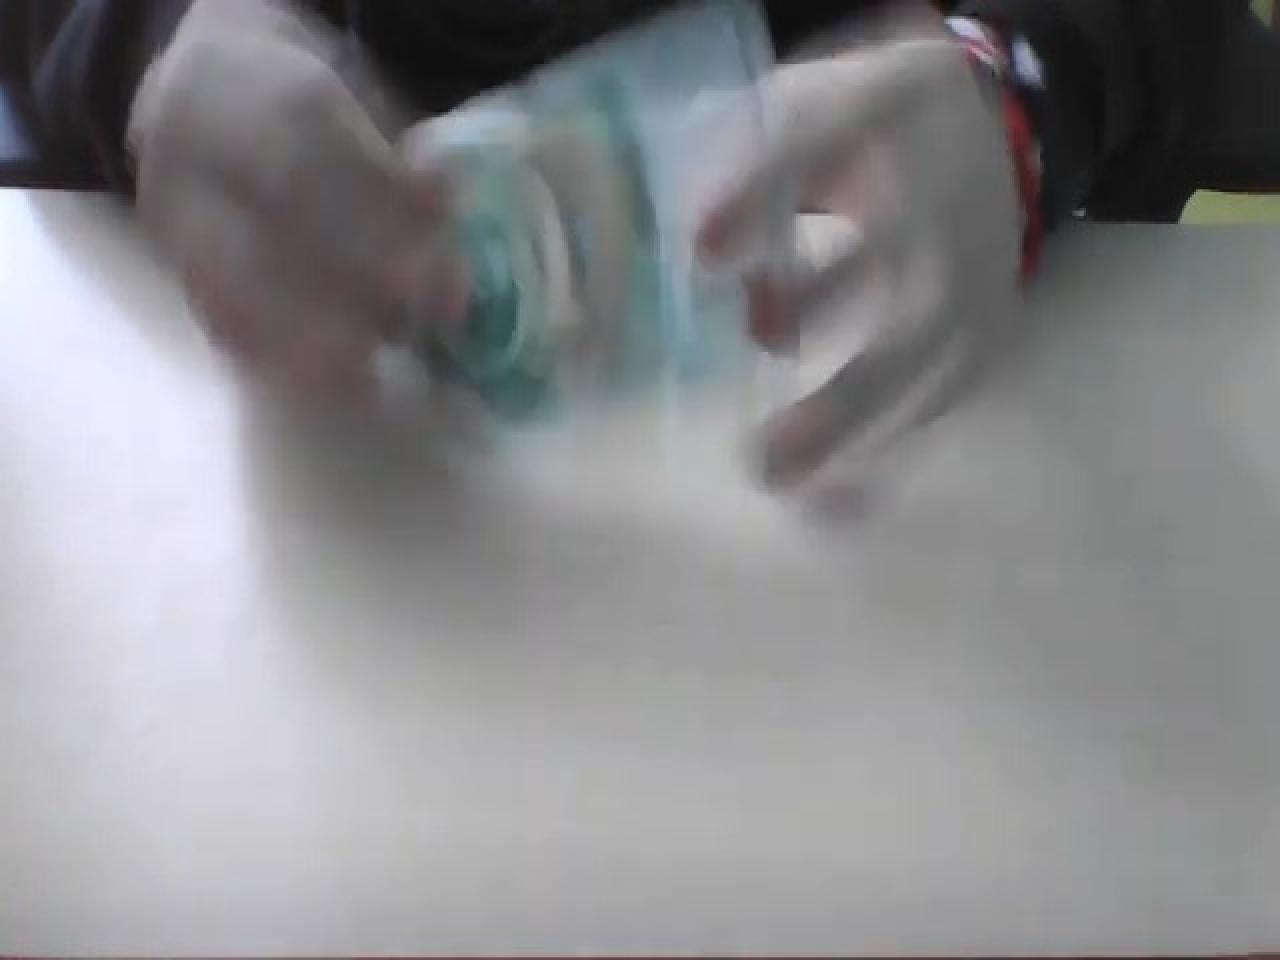100leva: (390, 3, 780, 433)
